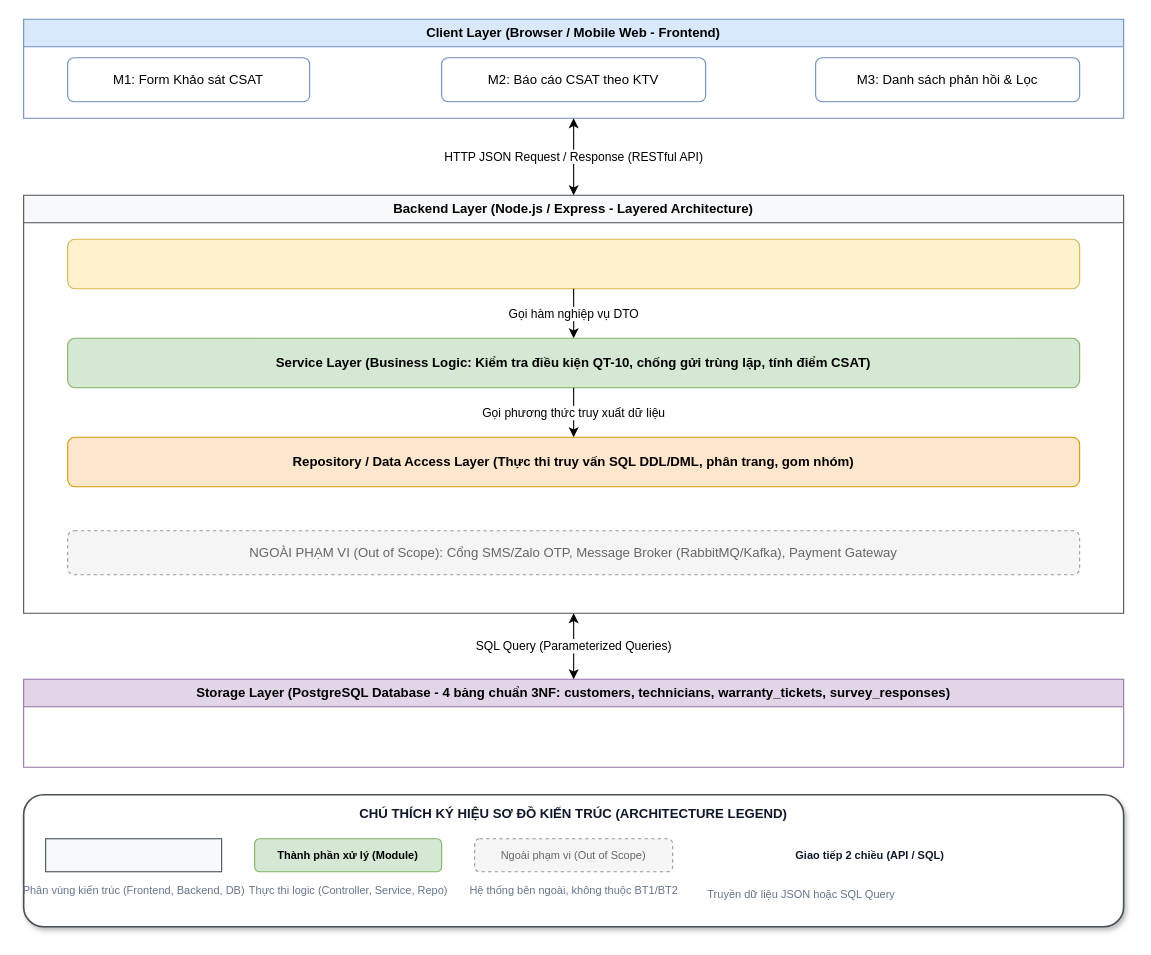
This 1151x955 diagram has some shape labels left out. Each missing label, with the centre of its shape:
"Ranh giới Tầng (Layer)" goes at [133,855].
"Routing & Controller Layer (Xác thực HTTP, nhận Request, gọi Service)" goes at [573,263].
